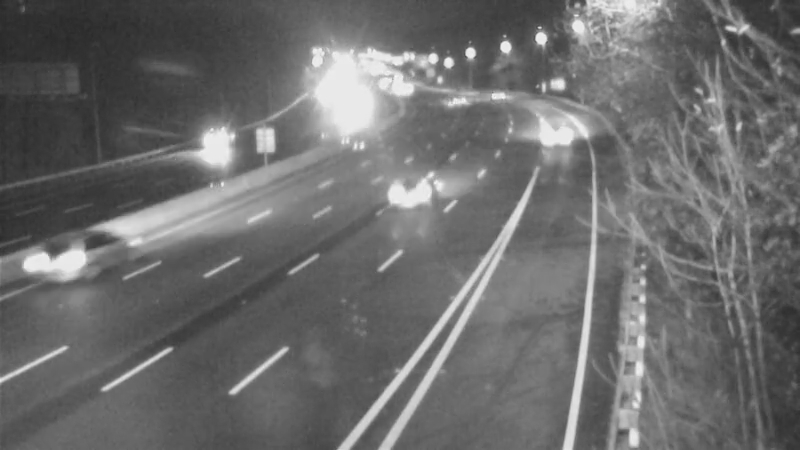vehicle: (373, 157, 453, 237), (20, 227, 100, 307), (465, 69, 515, 119), (427, 74, 477, 124), (519, 104, 569, 154), (205, 120, 255, 170)
